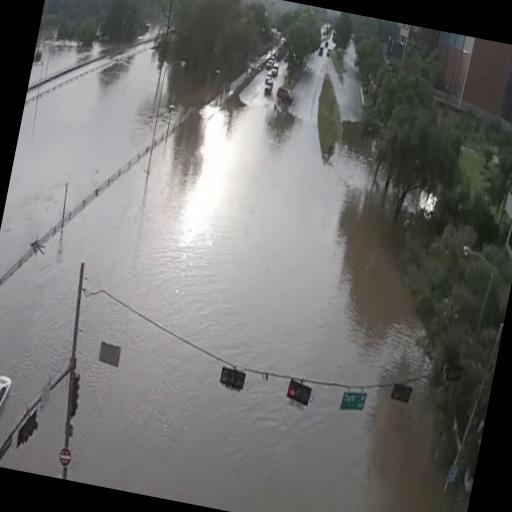flood: (0, 38, 470, 512)
house: (420, 30, 512, 127), (481, 185, 512, 302), (41, 0, 95, 27)
